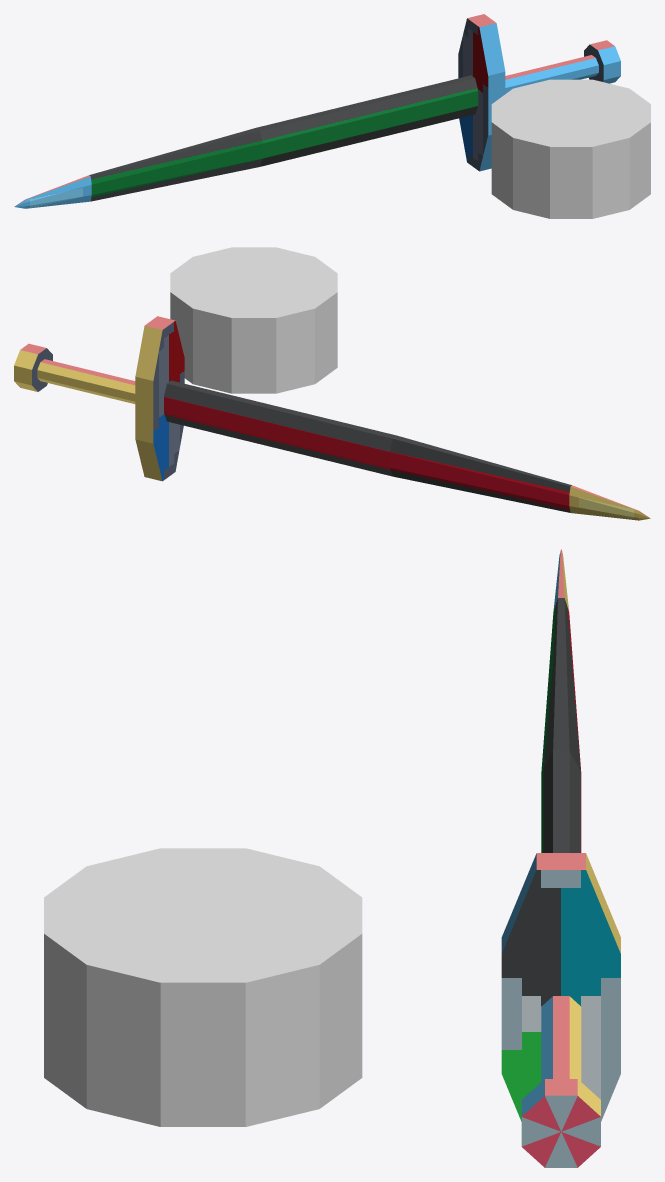
Rendered from Sword.fbx.
3 renders of one model, top to bottom at view 1: azimuth 30°, elevation 25°; view 2: azimuth 150°, elevation 25°; view 3: azimuth 270°, elevation 25°, orthographic. The views are drawn at different scales.
Parts seen in each view (by area): view 1: cylinder_4, cylinder_1, cylinder, cylinder_2, cylinder_3; view 2: cylinder_4, cylinder_1, cylinder, cylinder_2, cylinder_3; view 3: cylinder_4, cylinder, cylinder_1, cylinder_3, cylinder_2.
Part boxes in pixels (x1,y1,x2,y2): cylinder_4: (491,79,650,218); cylinder_1: (14,75,478,208); cylinder: (458,14,505,171); cylinder_2: (505,55,598,93); cylinder_3: (584,40,620,83); cylinder_4: (170,247,337,393); cylinder_1: (164,380,650,520); cylinder: (135,316,184,481); cylinder_2: (37,359,135,403); cylinder_3: (14,343,52,391); cylinder_4: (44,848,362,1126); cylinder: (501,853,620,1121); cylinder_1: (541,549,581,852); cylinder_3: (521,1079,600,1167); cylinder_2: (541,996,581,1081).
Bounding box in the file's own units: 433 × 100 × 181.
1 material, 1 textured.
